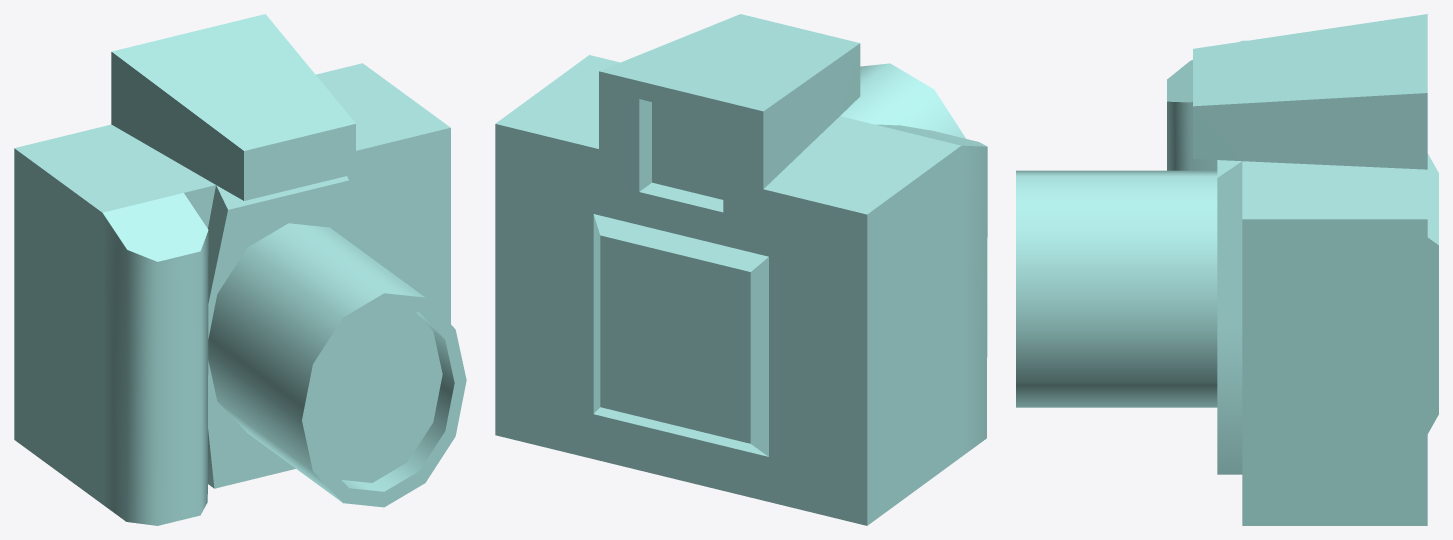
Rendered from stylus_xray.fbx.
3 renders of one model, left to right at view 1: azimuth 30°, elevation 25°; view 2: azimuth 150°, elevation 25°; view 3: azimuth 270°, elevation 25°, orthographic. The views are drawn at different scales.
Parts seen in each view (by area): view 1: stylus_xray; view 2: stylus_xray; view 3: stylus_xray.
Boxes of the visible parts, x1,y1,x2,y2 form: stylus_xray: (14, 14, 466, 525); stylus_xray: (495, 14, 987, 525); stylus_xray: (1016, 14, 1438, 525).
Size of the model in its own units: 99.99 by 99.98 by 100.
